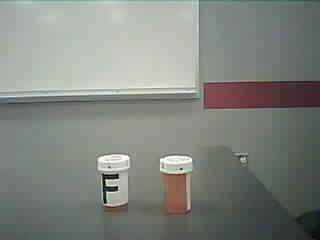Bottle F: (92, 152, 137, 217)
